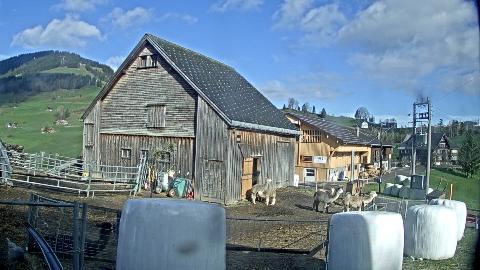sheep: (42, 221, 114, 259), (342, 190, 378, 214), (313, 188, 342, 212), (250, 176, 271, 204), (258, 189, 276, 205), (318, 188, 334, 200), (252, 170, 260, 184)
